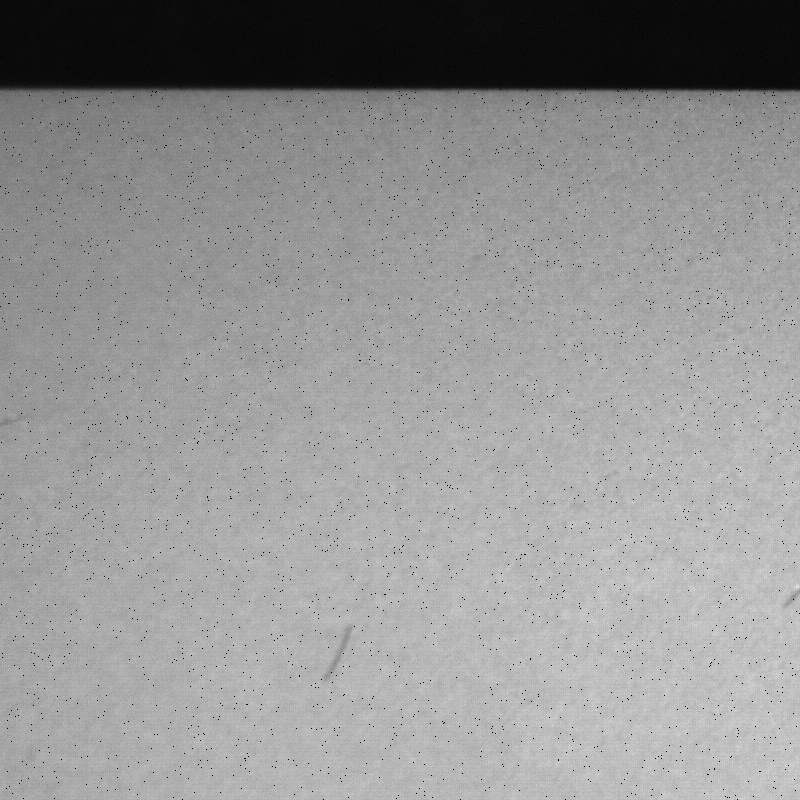defect: (318, 620, 359, 686), (775, 585, 800, 610)
